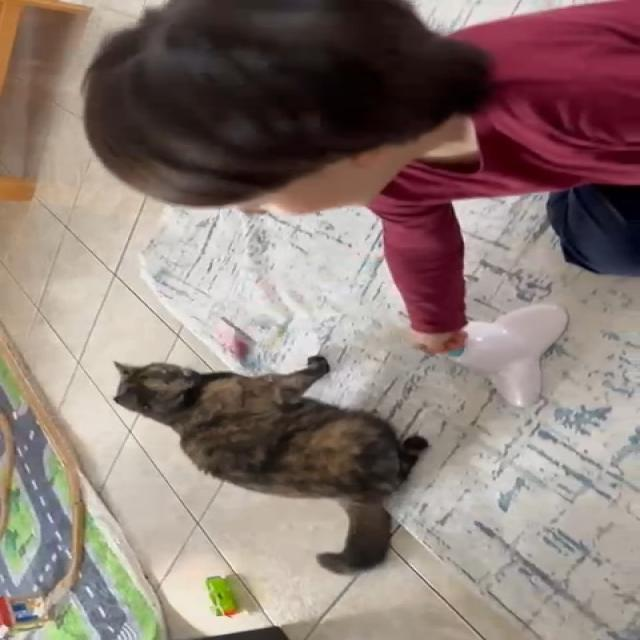authorized: (111, 355, 429, 574)
